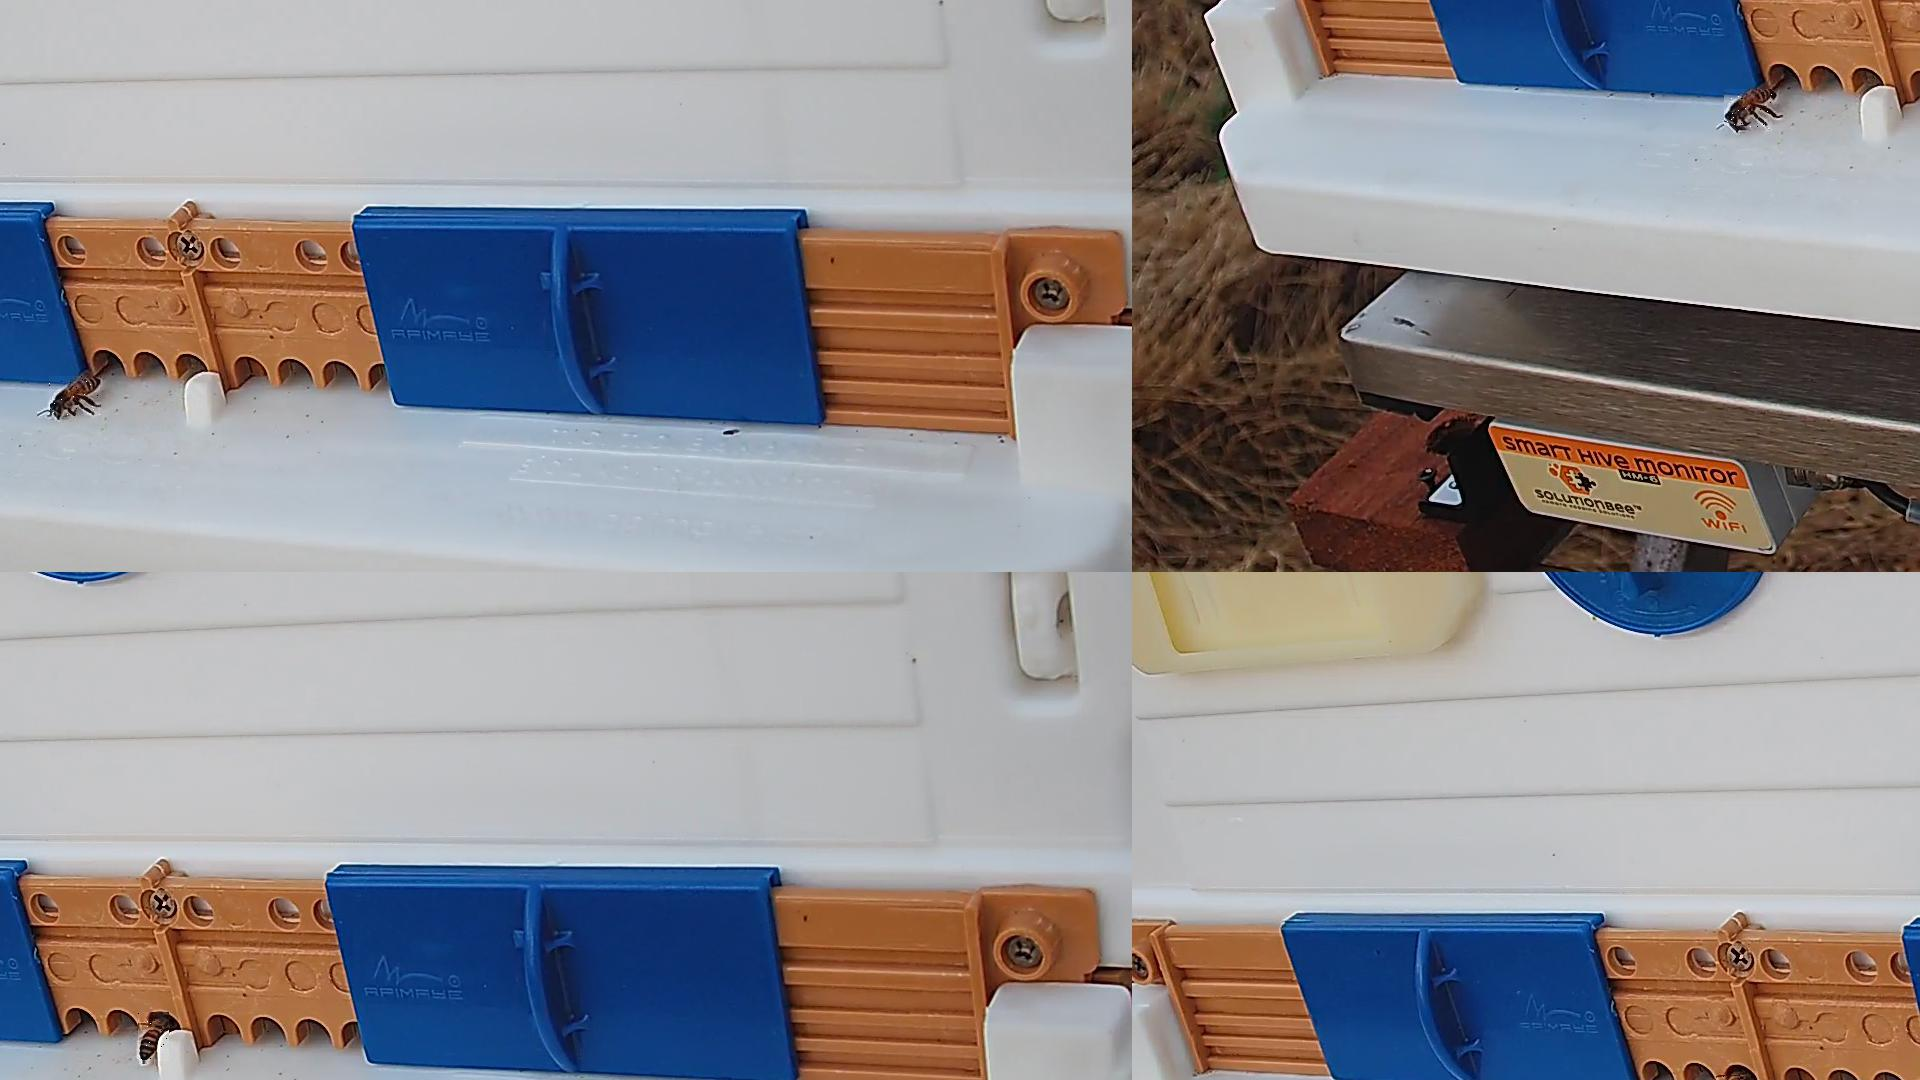bee: (49, 376, 102, 415), (1725, 90, 1775, 131), (138, 1013, 170, 1065)
